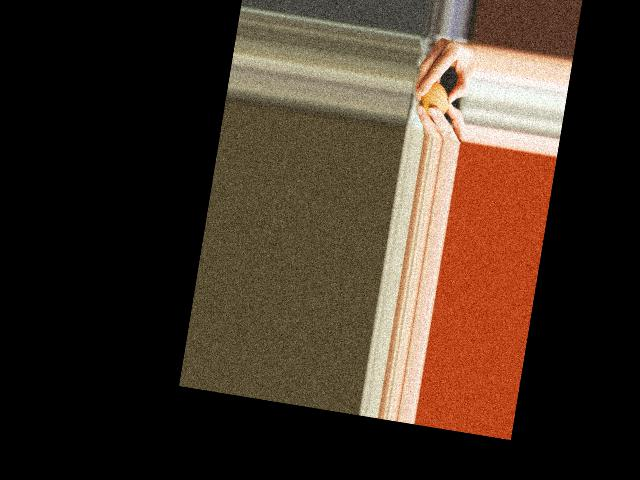egg: (418, 80, 451, 119)
